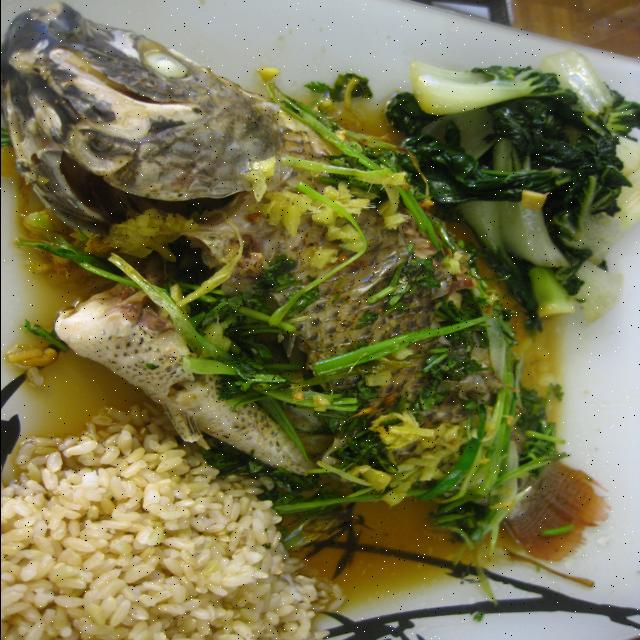Rice: (0, 408, 340, 640)
